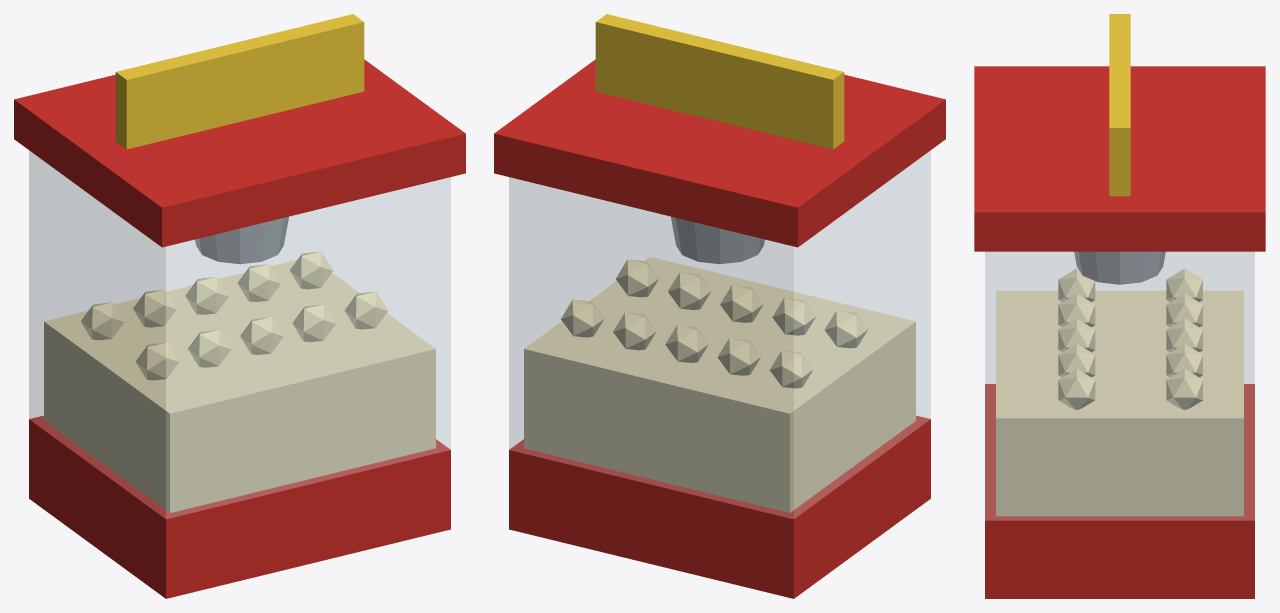
Rendered from popcorn_machine.glb.
3 renders of one model, left to right at view 1: azimuth 30°, elevation 25°; view 2: azimuth 150°, elevation 25°; view 3: azimuth 270°, elevation 25°, orthographic.
Parts seen in each view (by area): view 1: glass_popcorn_glass, pile_popcorn, roof_popcorn_red, base_popcorn_red, sign_popcorn_sign, kettle_popcorn_steel; view 2: glass_popcorn_glass, pile_popcorn, roof_popcorn_red, base_popcorn_red, sign_popcorn_sign, kettle_popcorn_steel; view 3: glass_popcorn_glass, pile_popcorn, roof_popcorn_red, base_popcorn_red, sign_popcorn_sign, kettle_popcorn_steel.
Part boxes in pixels (<box>): glass_popcorn_glass: <box>29,150,450,518</box>; pile_popcorn: <box>44,251,435,512</box>; roof_popcorn_red: <box>14,59,465,247</box>; base_popcorn_red: <box>29,415,450,598</box>; sign_popcorn_sign: <box>115,14,364,149</box>; kettle_popcorn_steel: <box>195,216,288,264</box>; glass_popcorn_glass: <box>509,150,930,518</box>; pile_popcorn: <box>524,256,915,512</box>; roof_popcorn_red: <box>494,59,945,247</box>; base_popcorn_red: <box>509,415,930,598</box>; sign_popcorn_sign: <box>595,14,844,149</box>; kettle_popcorn_steel: <box>671,216,764,264</box>; glass_popcorn_glass: <box>985,252,1254,520</box>; pile_popcorn: <box>996,268,1243,516</box>; roof_popcorn_red: <box>974,66,1265,251</box>; base_popcorn_red: <box>985,384,1254,598</box>; sign_popcorn_sign: <box>1109,14,1130,196</box>; kettle_popcorn_steel: <box>1074,251,1165,284</box>.
Bounding box in the file's own units: 0.64 × 0.94 × 0.54.
